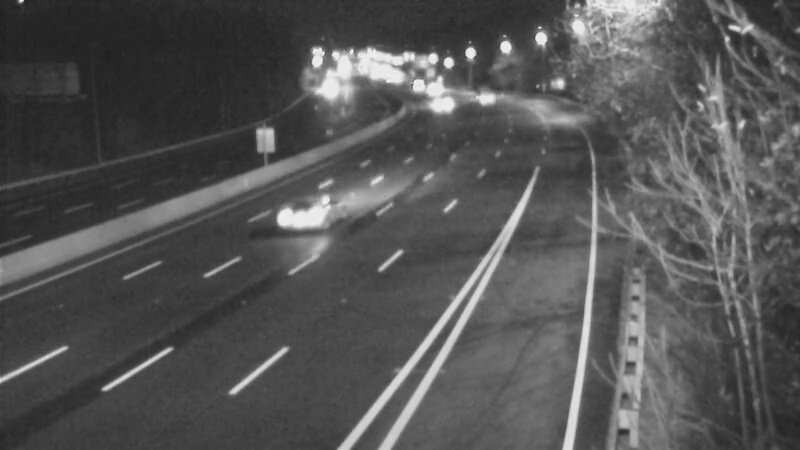vehicle: (264, 174, 344, 254), (463, 65, 513, 115), (406, 64, 456, 114), (418, 80, 468, 130), (303, 63, 353, 113)
